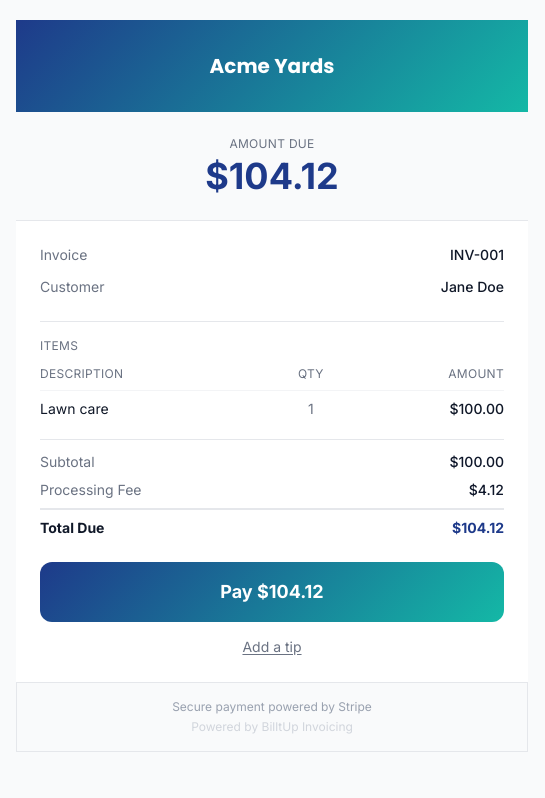
Test case: PaymentPage tips › "No tip" removes the tip again
The image size is (545, 798).
Later steps or results of the test are not shown.
Expected: the button "Pay $104.12" is shown, left=40, top=562, right=504, bottom=622
Click the button "Add a tip". click: click(272, 647)
box: left=242, top=637, right=302, bottom=657
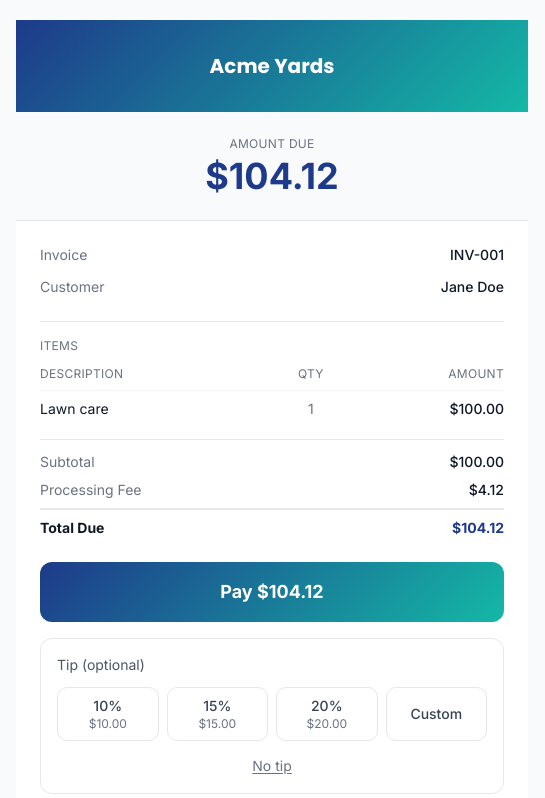
Click the button "20% $20.00". click: click(327, 714)
box: left=276, top=687, right=378, bottom=741
(page scrolled)
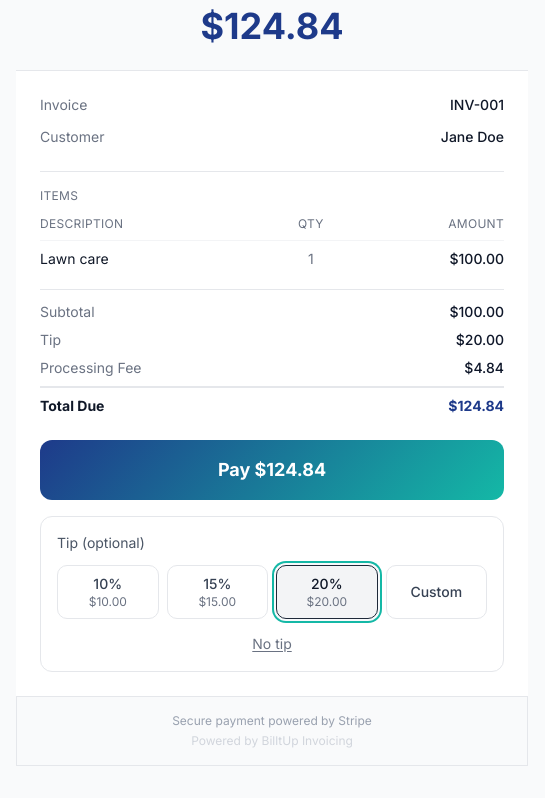
Expected: the button "Pay $124.84" no longer shows "$104.12", left=40, top=440, right=504, bottom=500
Click the button "No tip". click: click(272, 644)
box: left=252, top=634, right=292, bottom=654
(page scrolled)
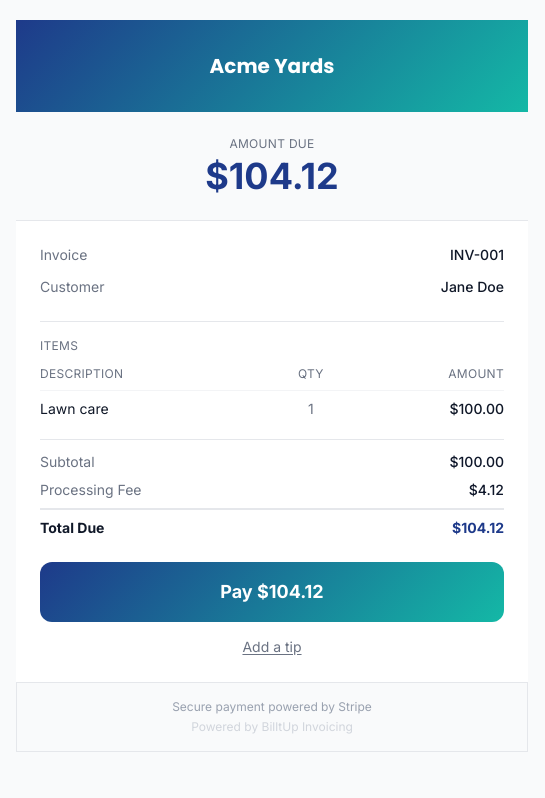
Expected: the element with test id "tip-line" is gone
